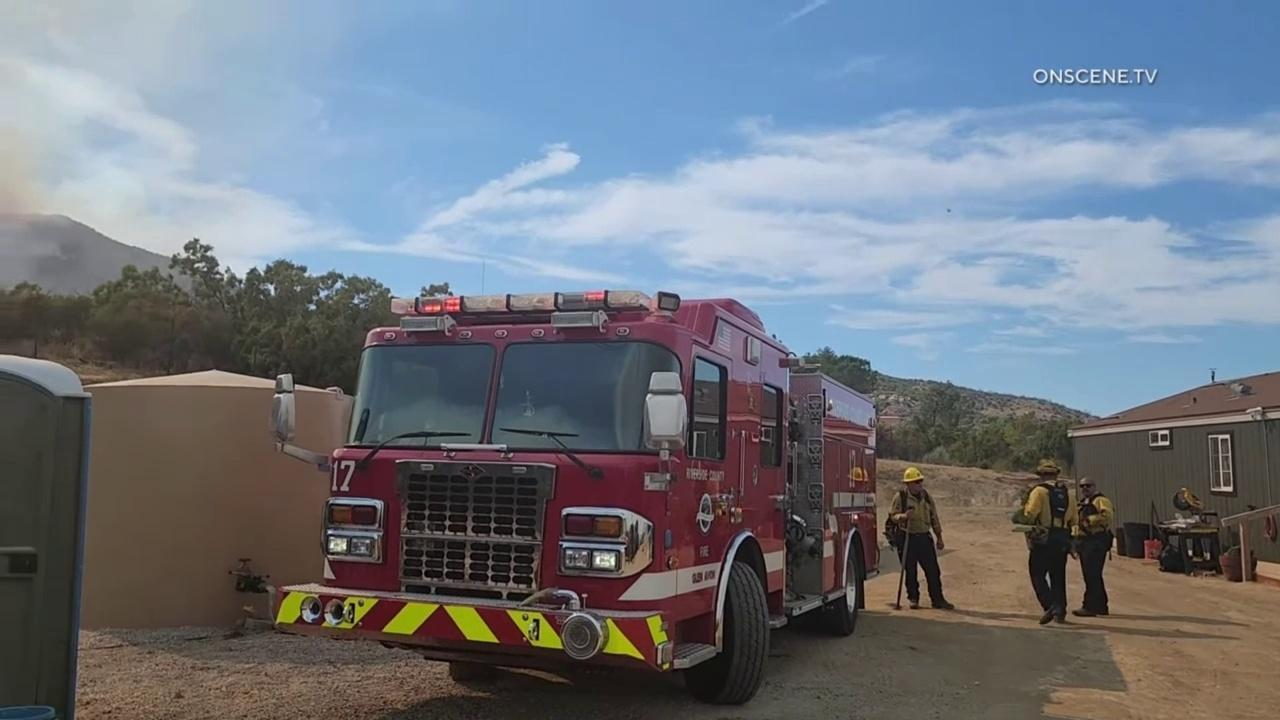smoke: (1, 0, 194, 307)
